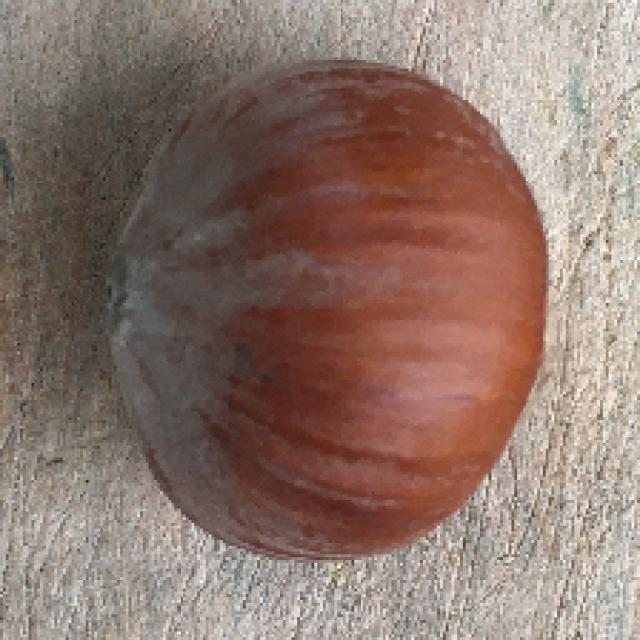hazelnut: (89, 54, 557, 562)
